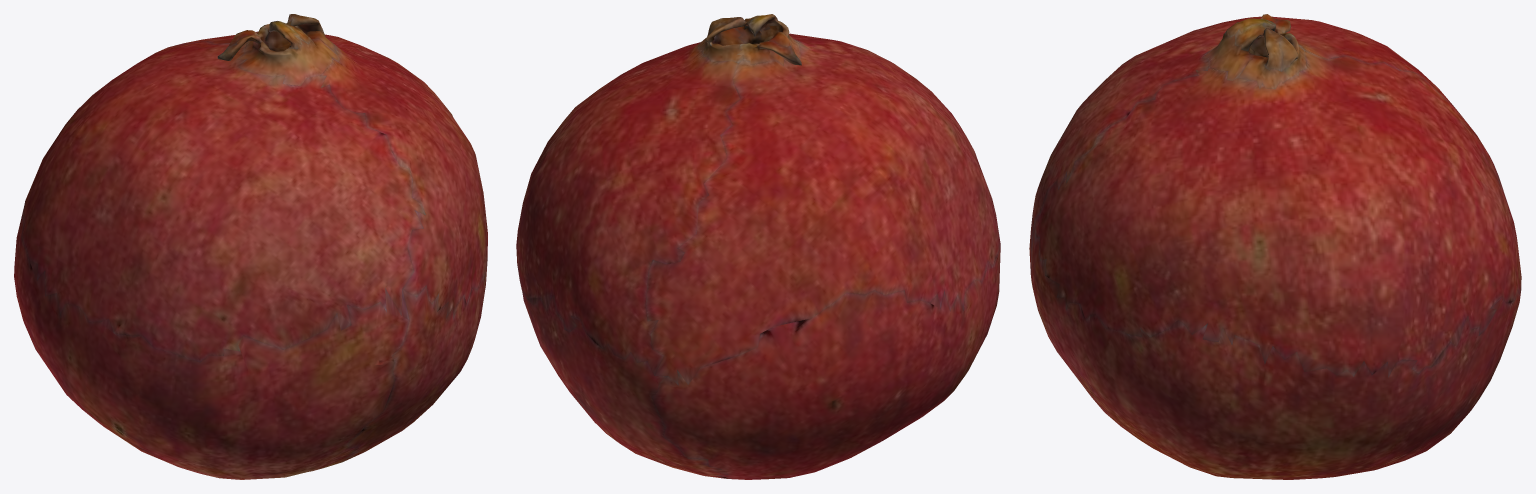
Rendered from food_pomegranate_01.glb.
The picture shows the model from 3 angles, left to right: view 1: azimuth 30°, elevation 25°; view 2: azimuth 150°, elevation 25°; view 3: azimuth 270°, elevation 25°; orthographic projection. The views are drawn at different scales.
Parts seen in each view (by area): view 1: food_pomegranate_01; view 2: food_pomegranate_01; view 3: food_pomegranate_01.
Boxes of the visible parts, left/top/right/bottom form: food_pomegranate_01: left=14, top=14, right=487, bottom=479; food_pomegranate_01: left=516, top=14, right=1000, bottom=479; food_pomegranate_01: left=1029, top=14, right=1521, bottom=479.
Bounding box in the file's own units: 0.1142 × 0.1148 × 0.1154.
Materials: 1 (1 with a texture image).
